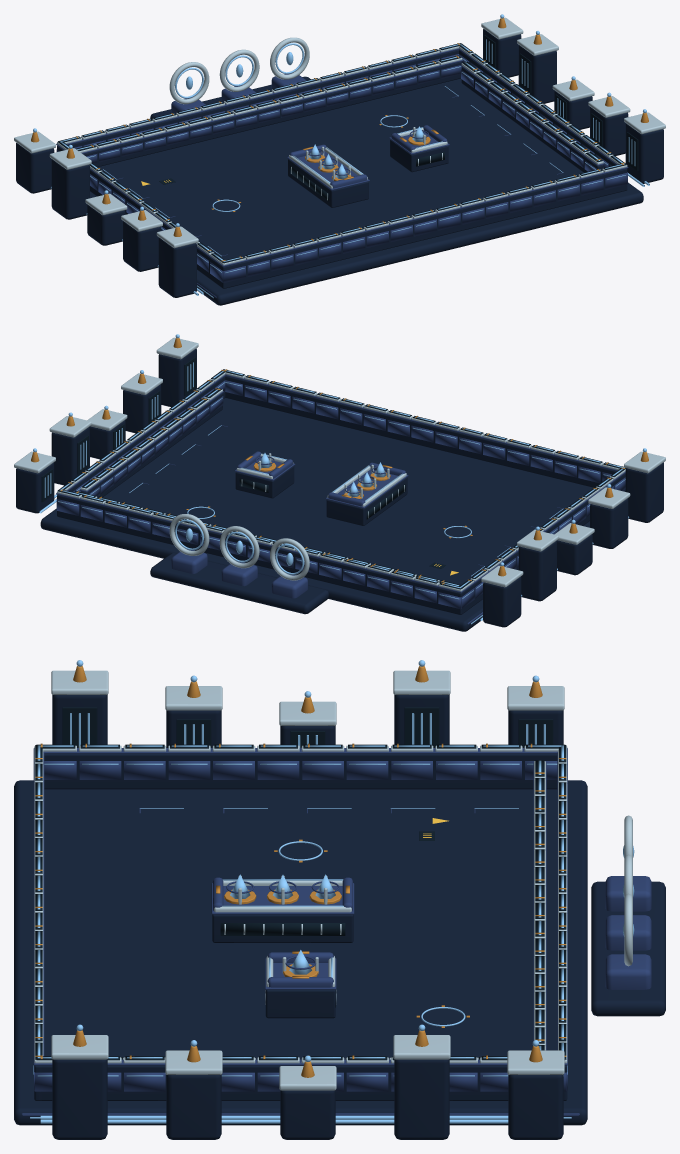
The model's file is echo.glb.
3 renders of one model, top to bottom at view 1: azimuth 30°, elevation 25°; view 2: azimuth 150°, elevation 25°; view 3: azimuth 270°, elevation 25°, orthographic. The views are drawn at different scales.
Visible parts, largest first — view 1: Raised orbital deck, SOLID 1 border, SOLID 6 reflector, SOLID 0 border, Exterior dock pylon.004, Exterior dock pylon.001, Exterior dock pylon.009, Exterior dock pylon, Exterior dock pylon.003, Exterior dock pylon.006, SOLID 7 reflector, SOLID 4 cover (+24 smaller); view 2: Raised orbital deck, SOLID 1 border, SOLID 0 border, Horizon installation platform, Exterior dock pylon.004, Exterior dock pylon.001, Exterior dock pylon, Exterior dock pylon.003, Exterior dock pylon.006, Exterior dock pylon.009, Exterior dock pylon.005, SOLID 7 reflector (+26 smaller); view 3: Raised orbital deck, SOLID 2 border, Horizon installation platform, SOLID 3 border, Exterior dock pylon.009, Exterior dock pylon.006, Exterior dock pylon.008, Exterior dock pylon.005, Exterior dock pylon.007, SOLID 4 cover, SOLID 5 cover, SOLID crown 2 border (+42 smaller).
Boxes of the visible parts, x1,y1,x2,y2 form: Raised orbital deck: (90,78,643,305); SOLID 1 border: (221,168,626,288); SOLID 6 reflector: (83,61,462,166); SOLID 0 border: (57,49,458,149); Exterior dock pylon.004: (158,237,196,297); Exterior dock pylon.001: (51,159,89,219); Exterior dock pylon.009: (625,123,663,183); Exterior dock pylon: (16,143,54,193); Exterior dock pylon.003: (123,221,161,271); Exterior dock pylon.006: (518,45,556,103); SOLID 7 reflector: (461,67,603,172); SOLID 4 cover: (288,159,368,207); Raised orbital deck: (40,398,592,631); SOLID 1 border: (225,376,616,487); SOLID 0 border: (57,495,463,614); Horizon installation platform: (150,553,328,614); Exterior dock pylon.004: (625,462,663,522); Exterior dock pylon.001: (518,541,556,601); Exterior dock pylon: (483,577,521,627); Exterior dock pylon.003: (590,498,628,548); Exterior dock pylon.006: (51,427,89,485); Exterior dock pylon.009: (158,348,196,407); Exterior dock pylon.005: (16,462,54,513); SOLID 7 reflector: (81,393,222,497); Raised orbital deck: (14,780,587,1125); SOLID 2 border: (44,754,557,789); Horizon installation platform: (591,881,665,1016); SOLID 3 border: (34,1065,567,1100); Exterior dock pylon.009: (52,1059,107,1139); Exterior dock pylon.006: (394,1059,449,1139); Exterior dock pylon.008: (166,1074,221,1139); Exterior dock pylon.005: (508,1074,563,1139); Exterior dock pylon.007: (280,1090,335,1139); SOLID 4 cover: (212,914,353,942); SOLID 5 cover: (265,990,335,1018); SOLID crown 2 border: (33,748,567,753).
Bounding box in the file's own units: 25.51 × 3.69 × 18.3.
